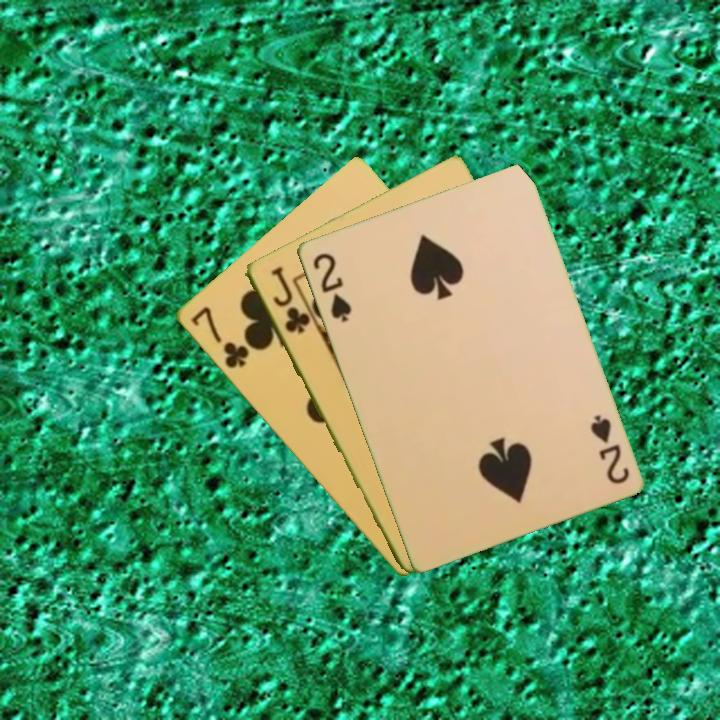2s: (308, 249, 355, 325), (586, 411, 632, 487)
7c: (186, 302, 252, 372)
Jc: (267, 263, 312, 336)
